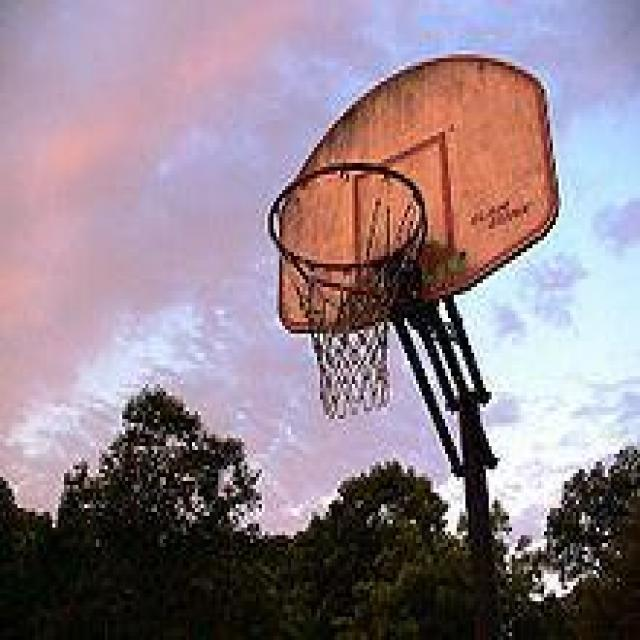hoop: (268, 162, 428, 420)
